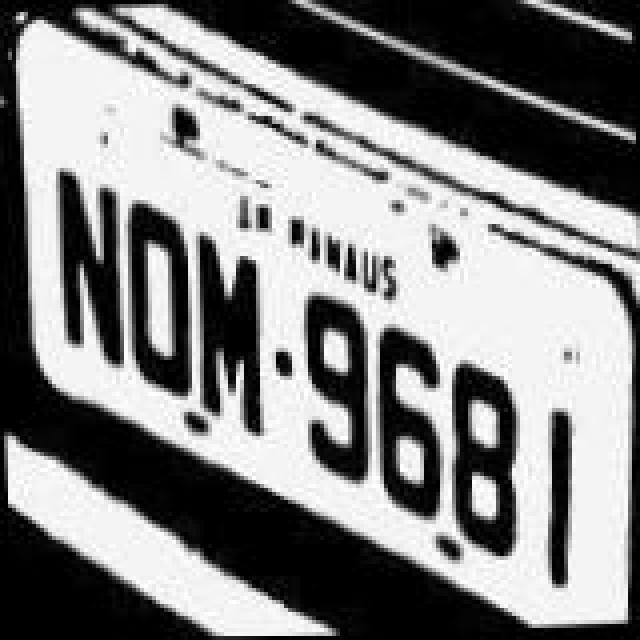1: (516, 394, 584, 602)
6: (360, 308, 448, 528)
8: (436, 338, 532, 566)
9: (288, 284, 380, 500)
M: (182, 226, 266, 442)
N: (42, 144, 130, 396)
O: (120, 182, 200, 418)
